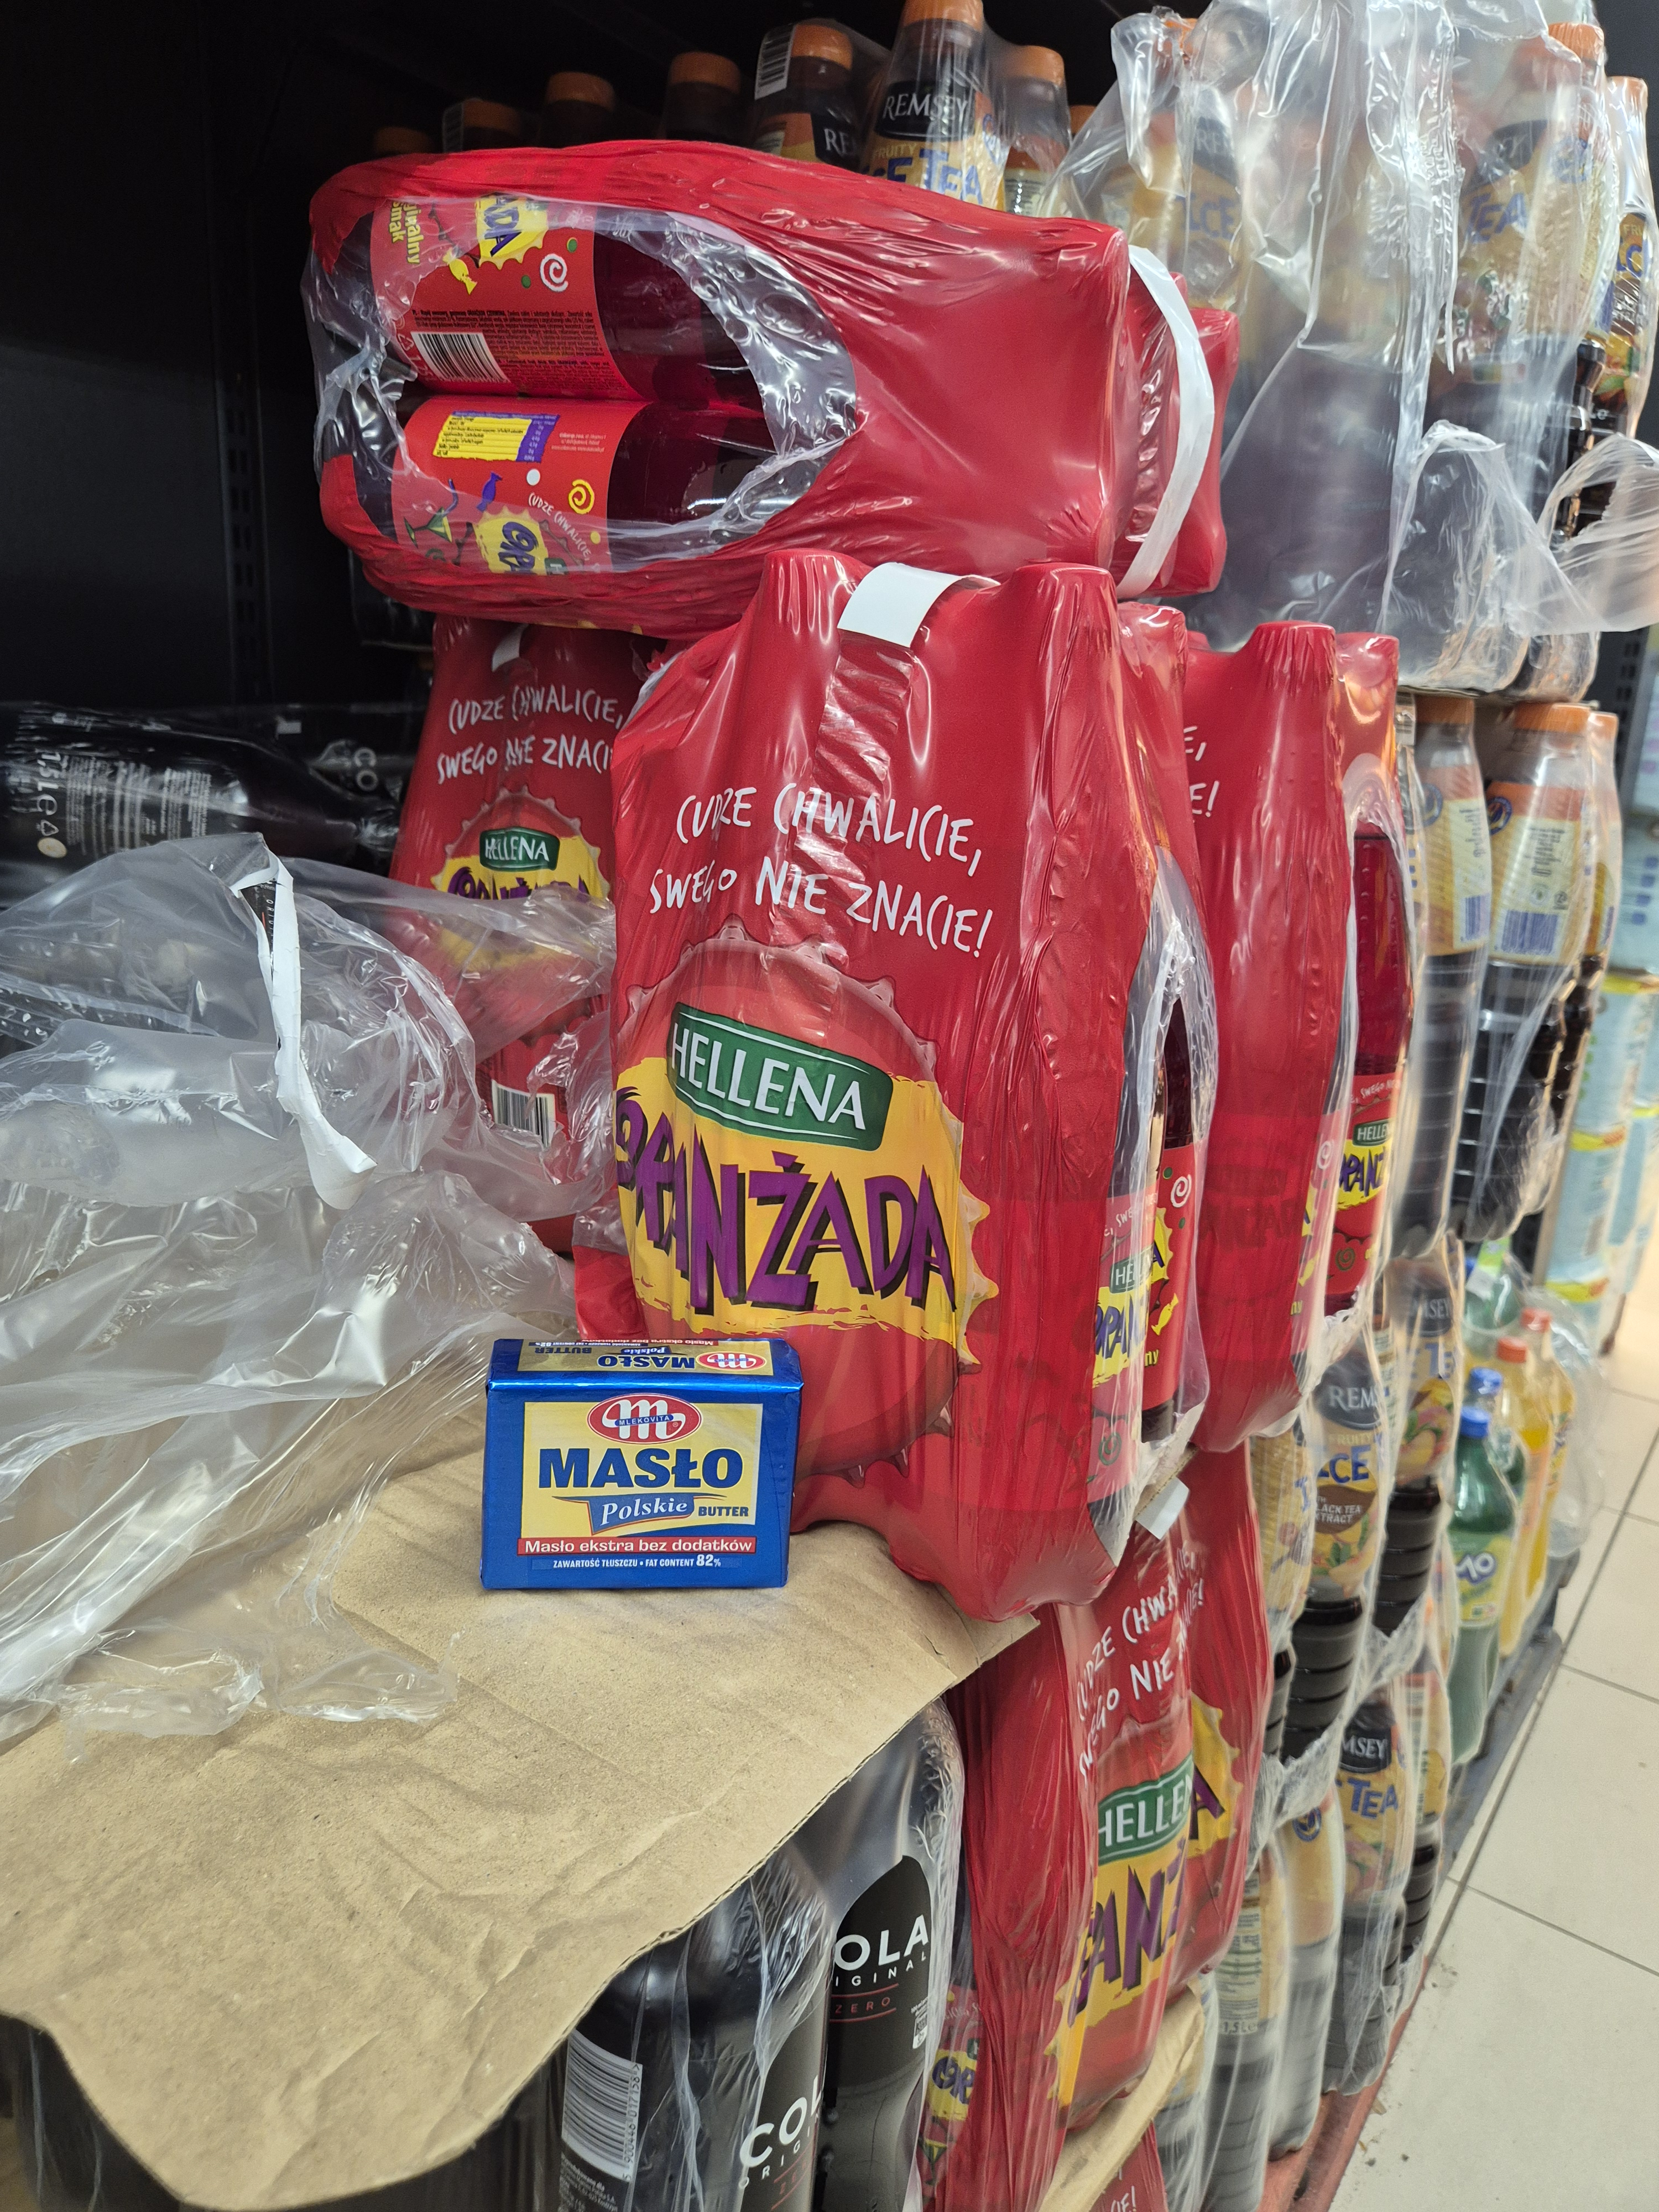Butter: (460, 1312, 823, 1618)
